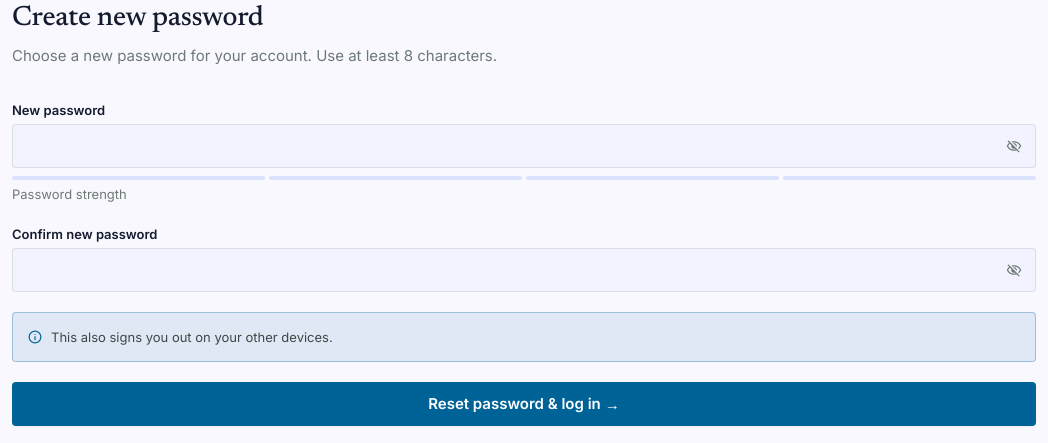
it: ResetPasswordForm: the form › rates the password as you type
In the password field labelled "New password": x=524, y=146 [12,124,1036,168], type "abc"
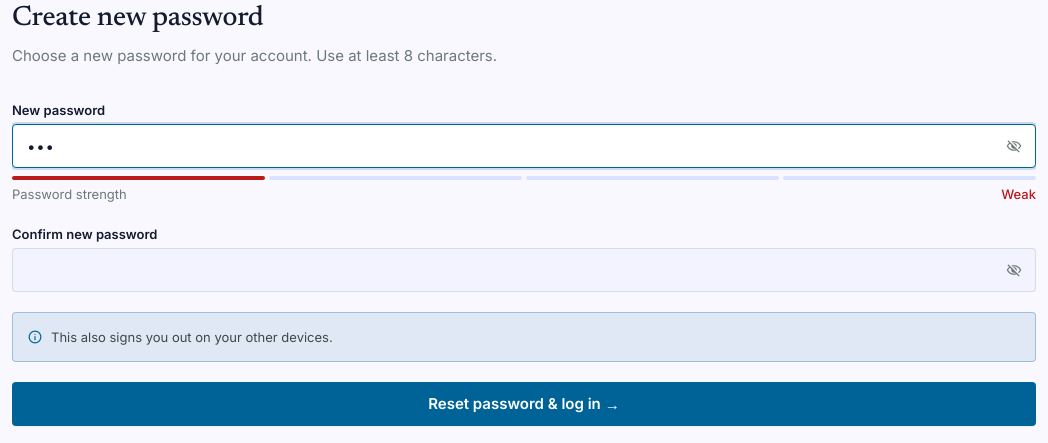
Expected: the text "Weak" is shown, [1001,184,1036,204]
In the password field labelled "New password": x=524, y=146 [12,124,1036,168], type "defghijklmnop1!"
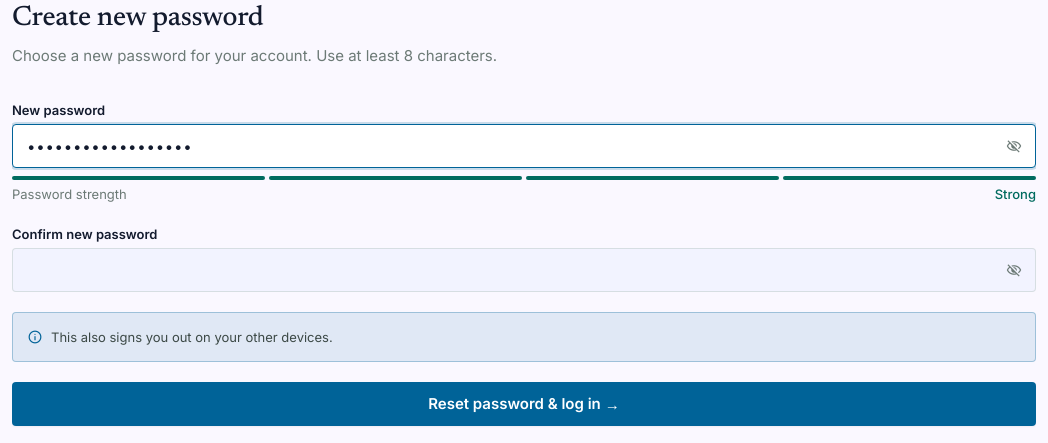
Expected: the text "Strong" is shown, [995,184,1036,204]
